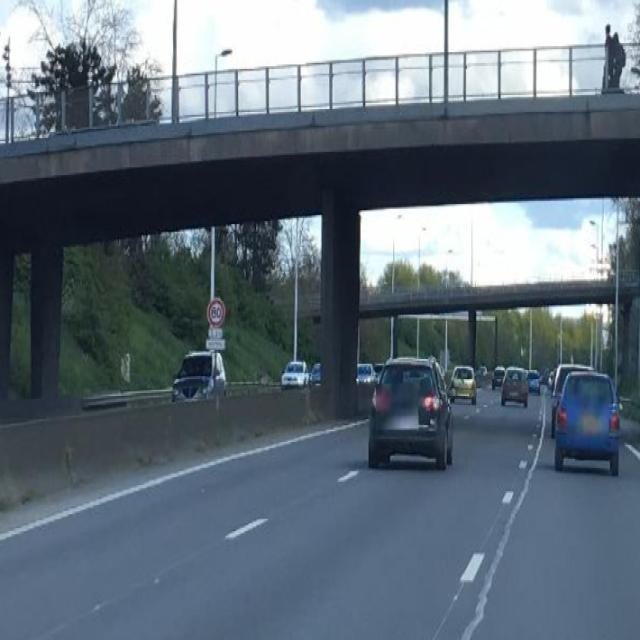speed_80: (208, 299, 224, 328)
